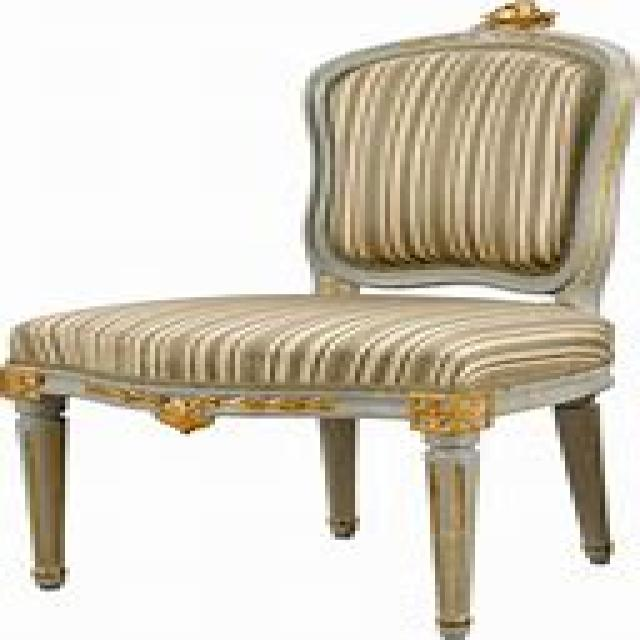chair: (0, 0, 635, 637)
